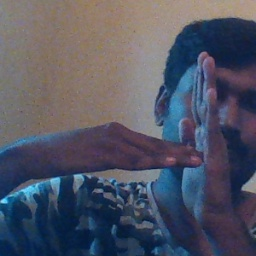Z: (105, 48, 235, 224)
